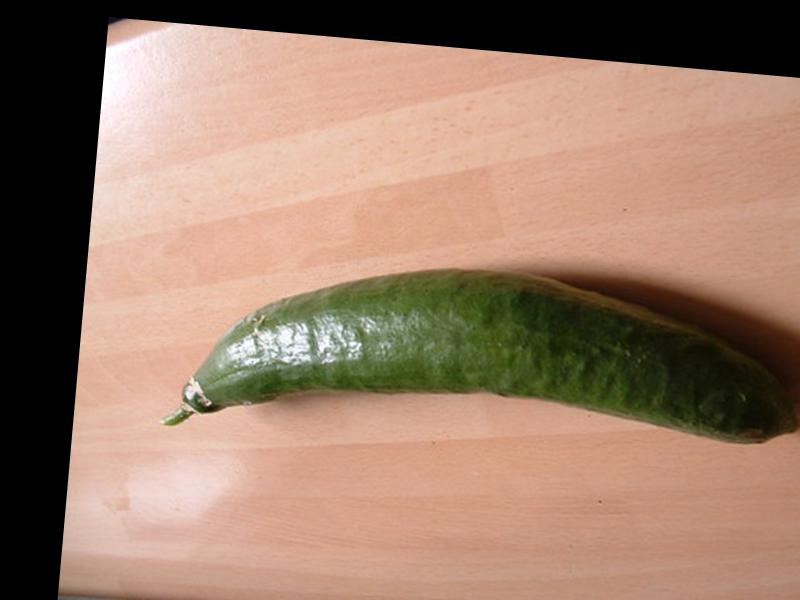Cucumber: (161, 239, 800, 480)
